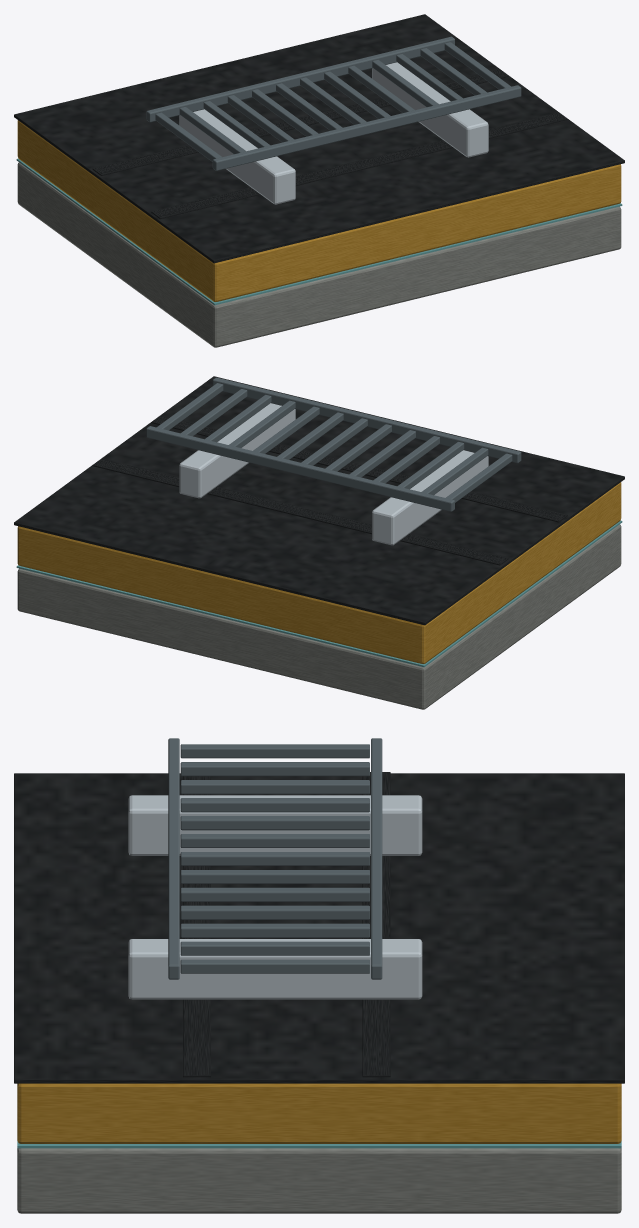
Rendered from modell.glb.
3 views of the same model, one above another, from view 1: azimuth 30°, elevation 25°; view 2: azimuth 150°, elevation 25°; view 3: azimuth 270°, elevation 25° (orthographic). The views are drawn at different scales.
Parts seen in each view (by area): view 1: a03-abdichtung_deckung, a03-untergrund_tragwerk, a03-daemmung_daemmung, a03-tritt_, a03-halter_, a03-naht_deckung, a03-luftdichtheit_luftdichtheit; view 2: a03-abdichtung_deckung, a03-untergrund_tragwerk, a03-daemmung_daemmung, a03-tritt_, a03-halter_, a03-naht_deckung, a03-luftdichtheit_luftdichtheit; view 3: a03-abdichtung_deckung, a03-tritt_, a03-untergrund_tragwerk, a03-daemmung_daemmung, a03-halter_, a03-naht_deckung, a03-luftdichtheit_luftdichtheit.
Boxes of the visible parts, x1,y1,x2,y2 form: a03-abdichtung_deckung: [14, 14, 624, 263]; a03-untergrund_tragwerk: [17, 162, 621, 347]; a03-daemmung_daemmung: [17, 120, 621, 301]; a03-tritt_: [146, 36, 521, 170]; a03-halter_: [179, 62, 488, 204]; a03-naht_deckung: [92, 69, 567, 218]; a03-luftdichtheit_luftdichtheit: [16, 158, 622, 305]; a03-abdichtung_deckung: [14, 376, 624, 625]; a03-untergrund_tragwerk: [17, 524, 621, 709]; a03-daemmung_daemmung: [17, 482, 621, 663]; a03-tritt_: [146, 377, 521, 511]; a03-halter_: [179, 403, 488, 545]; a03-naht_deckung: [92, 415, 567, 565]; a03-luftdichtheit_luftdichtheit: [16, 520, 622, 667]; a03-abdichtung_deckung: [14, 773, 624, 1083]; a03-tritt_: [168, 738, 382, 979]; a03-untergrund_tragwerk: [17, 1148, 621, 1213]; a03-daemmung_daemmung: [17, 1083, 621, 1143]; a03-halter_: [128, 795, 422, 999]; a03-naht_deckung: [183, 772, 390, 1077]; a03-luftdichtheit_luftdichtheit: [17, 1141, 621, 1148].
Bounding box in the file's own units: 2.22 × 0.715 × 1.87.
Materials: 6 (3 with a texture image).
